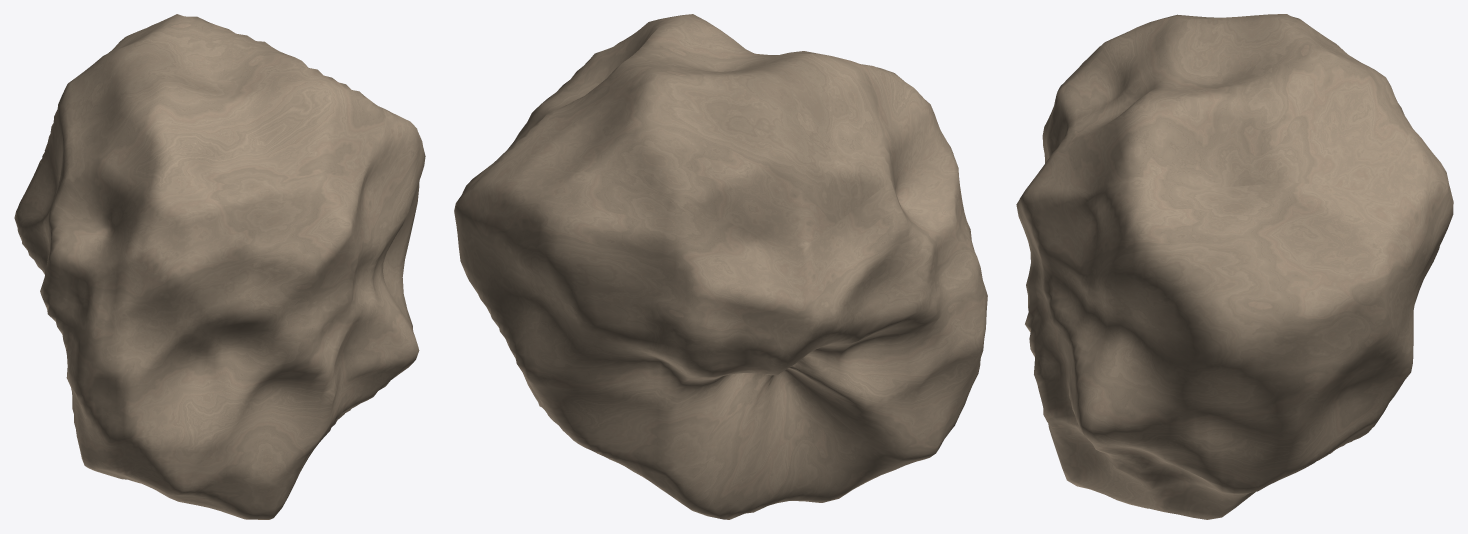
File: boulder4.fbx
3 renders of one model, left to right at view 1: azimuth 30°, elevation 25°; view 2: azimuth 150°, elevation 25°; view 3: azimuth 270°, elevation 25°, orthographic. The views are drawn at different scales.
Parts seen in each view (by area): view 1: cube.sphere.32; view 2: cube.sphere.32; view 3: cube.sphere.32.
Boxes of the visible parts, left/top/right/bottom form: cube.sphere.32: left=14, top=14, right=425, bottom=519; cube.sphere.32: left=454, top=14, right=987, bottom=519; cube.sphere.32: left=1016, top=14, right=1453, bottom=519.
Bounding box in the file's own units: 124 × 130 × 112.
